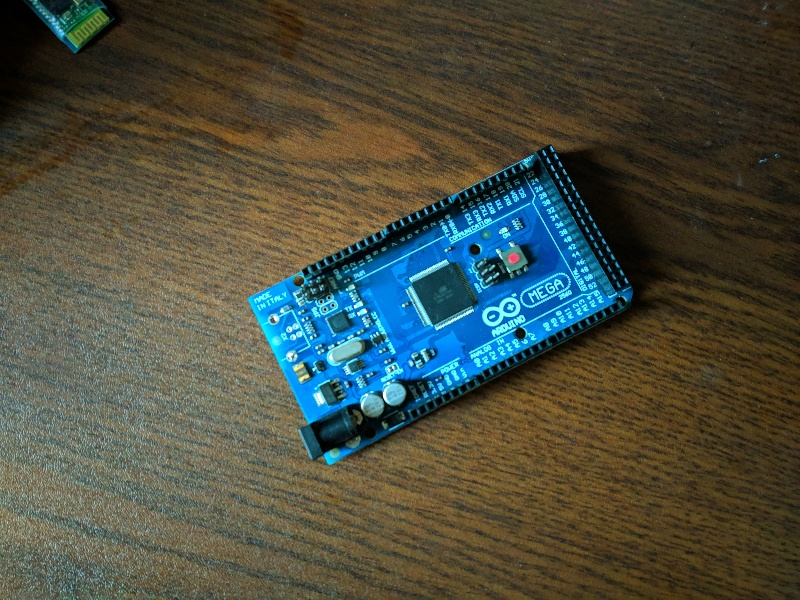Arduino Mega 2560: (241, 140, 643, 471)
